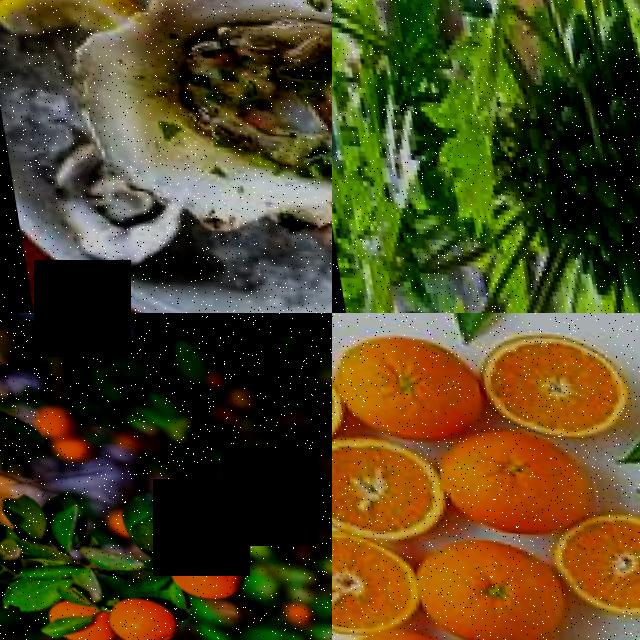orange: (399, 518, 566, 640), (472, 313, 631, 431), (428, 415, 588, 525), (332, 317, 477, 436), (332, 427, 440, 535), (555, 491, 640, 611), (332, 517, 412, 636), (159, 531, 245, 595), (97, 583, 172, 640), (35, 590, 109, 640), (332, 615, 472, 640)
oysters: (51, 0, 332, 223)
